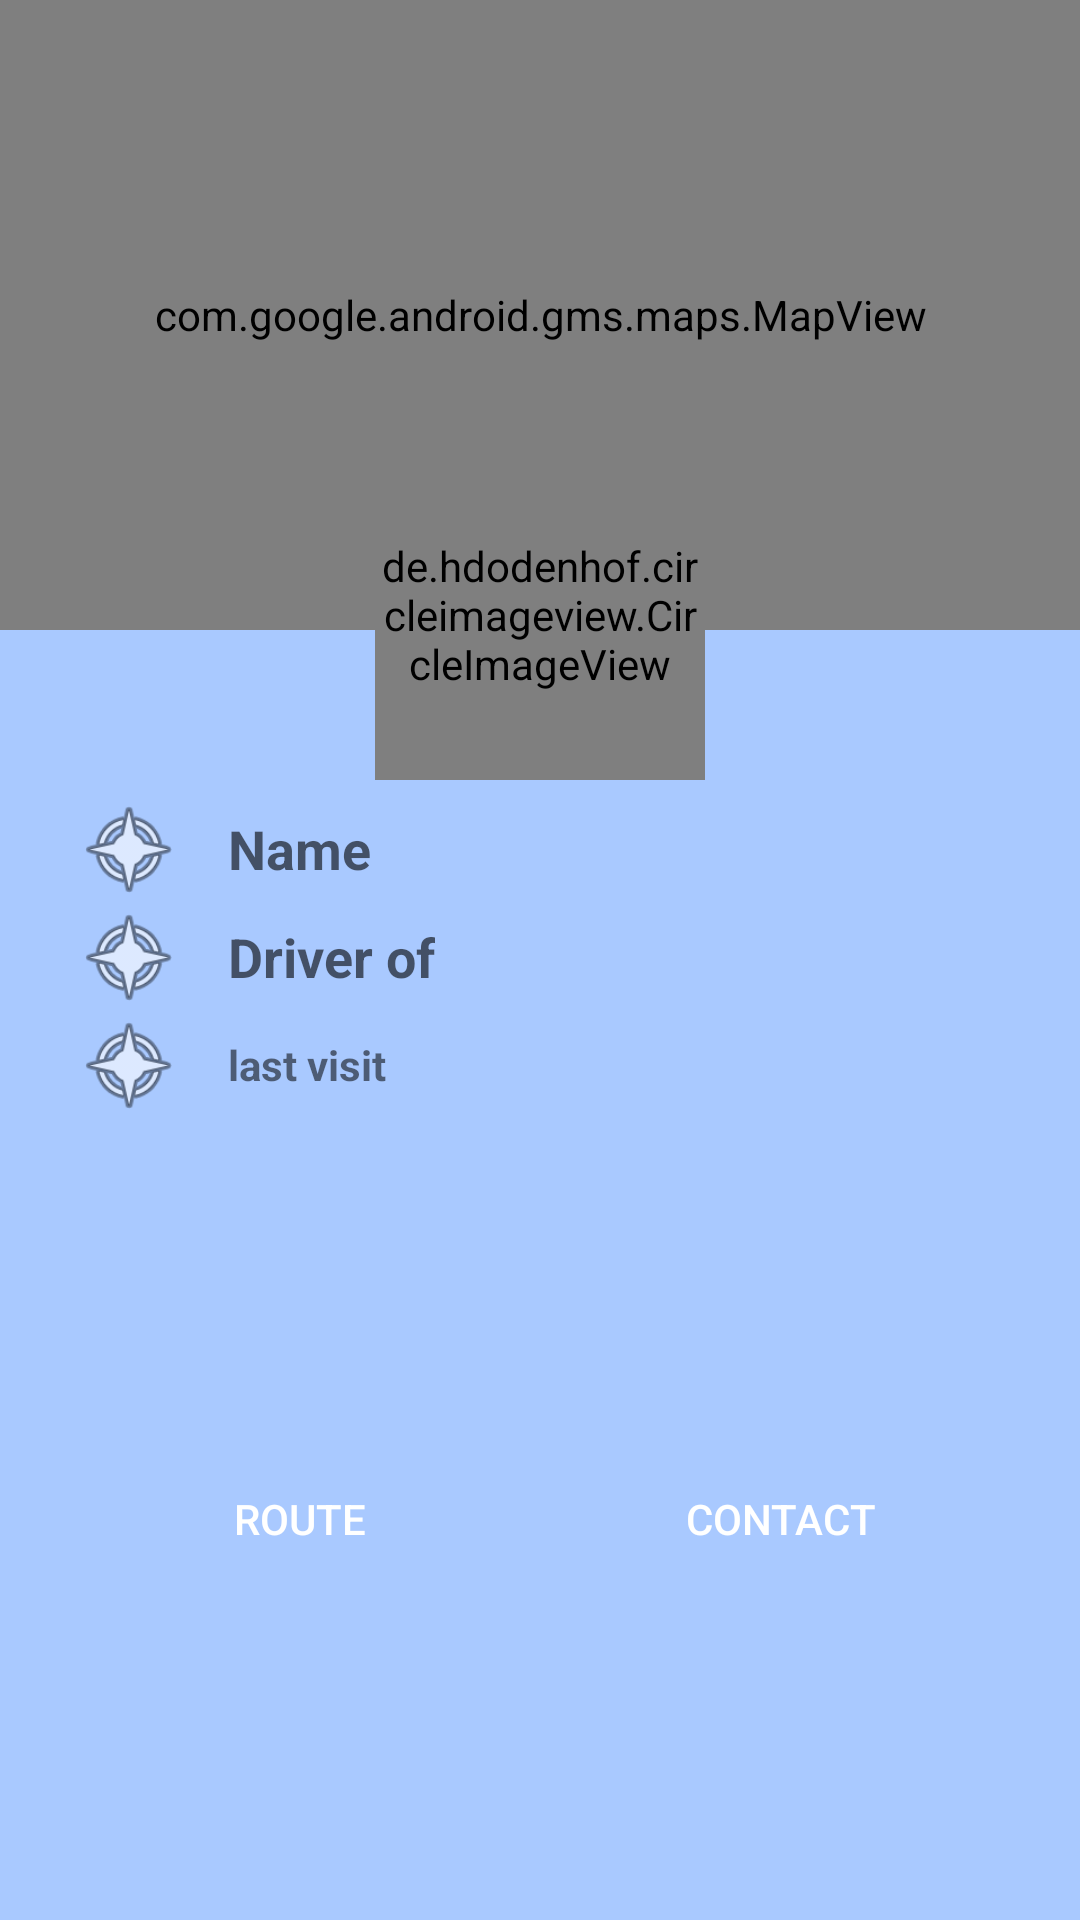

Screen size 1080×1920. Icon name, then its center in pixels as (x=x, y=y):
compass: (x=128, y=849), (x=128, y=957), (x=128, y=1065)
